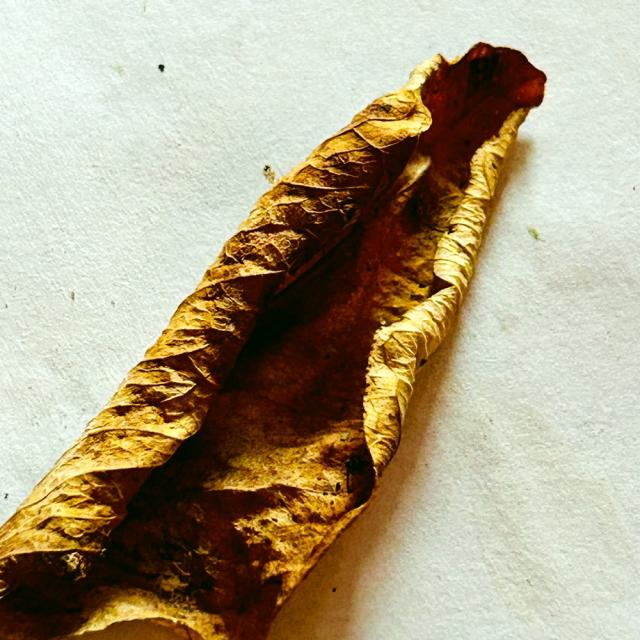DryLeaf_Lemon: (0, 43, 546, 639)
